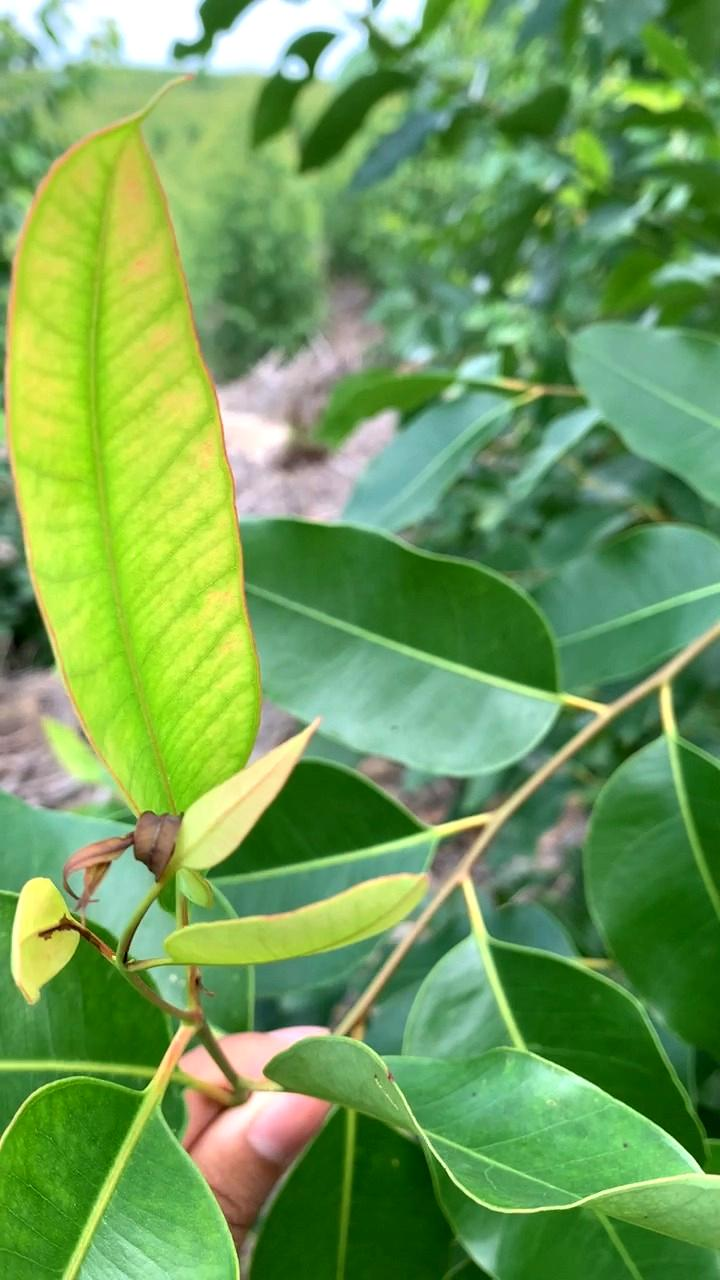Helopeltis-Withered Sprout: (58, 808, 191, 909)
